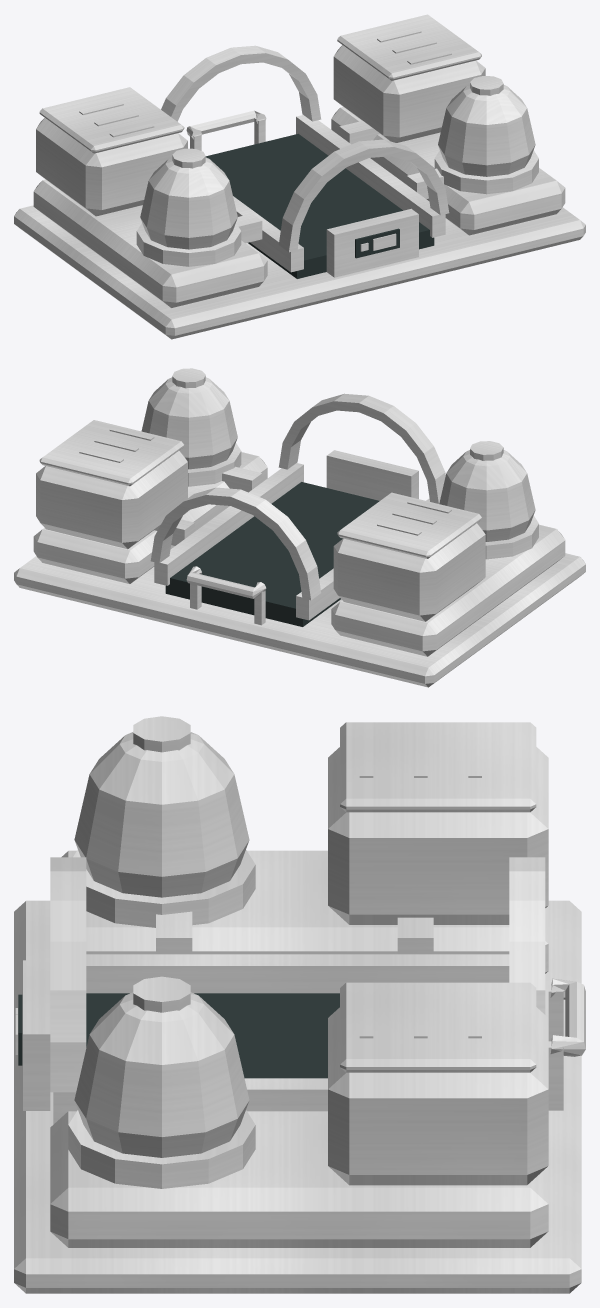
The model's file is biosculpter_pod.obj.
The picture shows the model from 3 angles, top to bottom: view 1: azimuth 30°, elevation 25°; view 2: azimuth 150°, elevation 25°; view 3: azimuth 270°, elevation 25°; orthographic projection. The views are drawn at different scales.
Parts seen in each view (by area): view 1: biosculpter_pod; view 2: biosculpter_pod; view 3: biosculpter_pod.
Boxes of the visible parts, left/top/right/bottom form: biosculpter_pod: left=14, top=14, right=585, bottom=339; biosculpter_pod: left=14, top=368, right=585, bottom=687; biosculpter_pod: left=14, top=716, right=585, bottom=1293.
Bounding box in the file's own units: 2.88 × 0.935 × 1.89.
